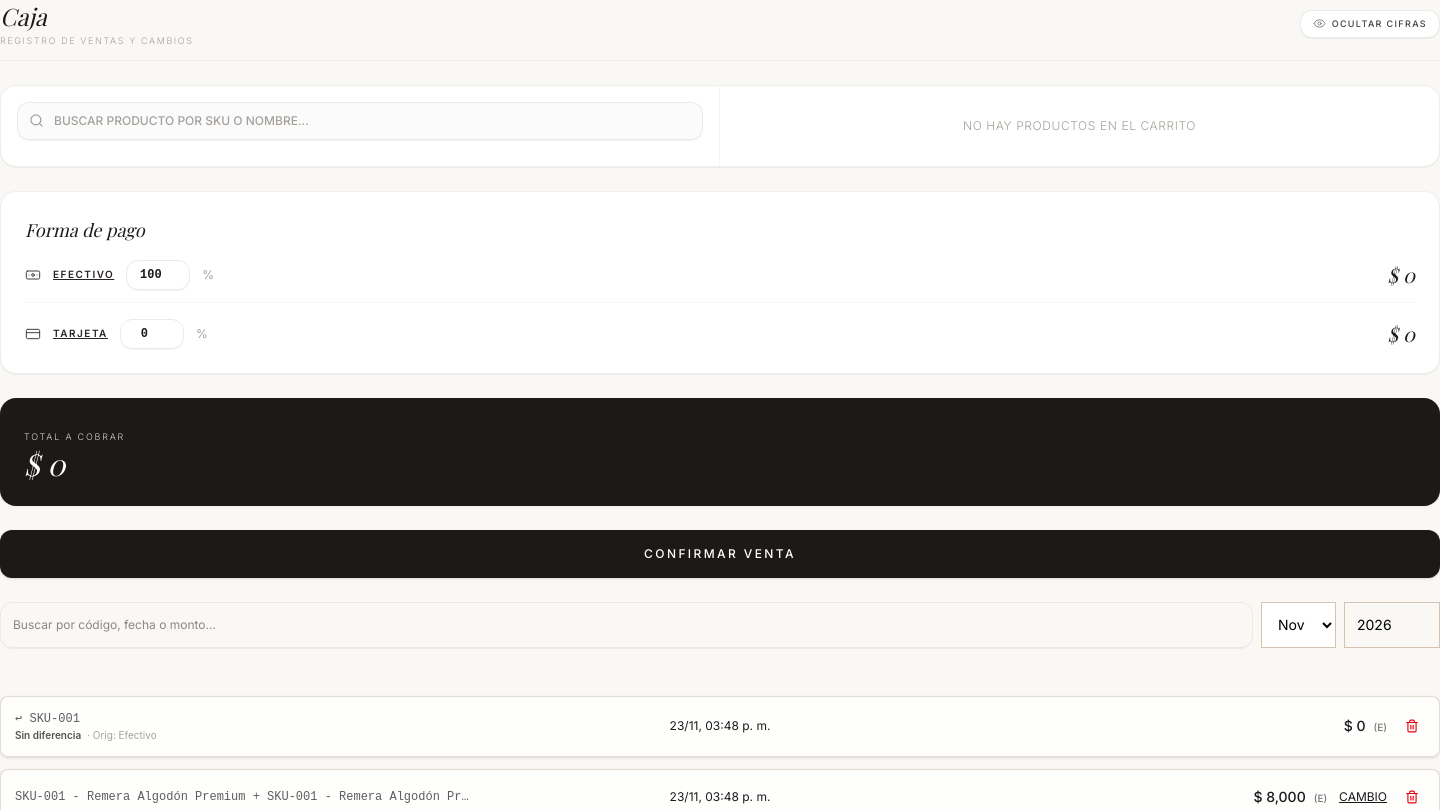
Test: Pruebas de Eliminaciones de Datos y Control de Detalles › 2. Control de Detalles › 2.1 Control de detalles en cambios: valida coincidencia estricta de talle, color y cantidad máxima permitida
Step 1. Click the button "Cambio" → (1363, 797), box [1339,789,1387,805]
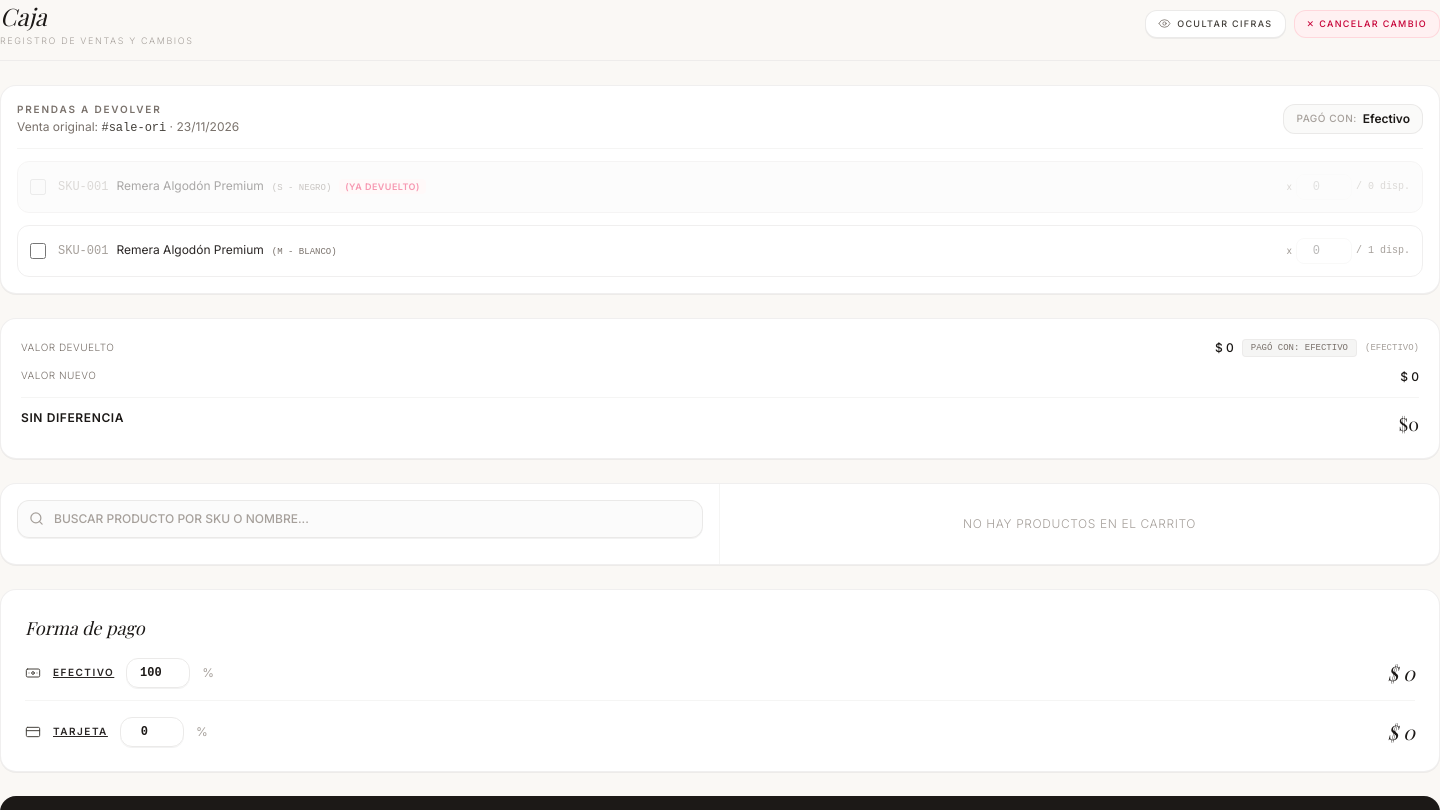
Result: the button "✕ Cancelar Cambio" is shown at [1294,10,1439,38]
Result: the heading "Prendas a devolver" is shown at [17,102,162,114]
Result: the text "(S - NEGRO)" is shown at [272,183,331,193]
